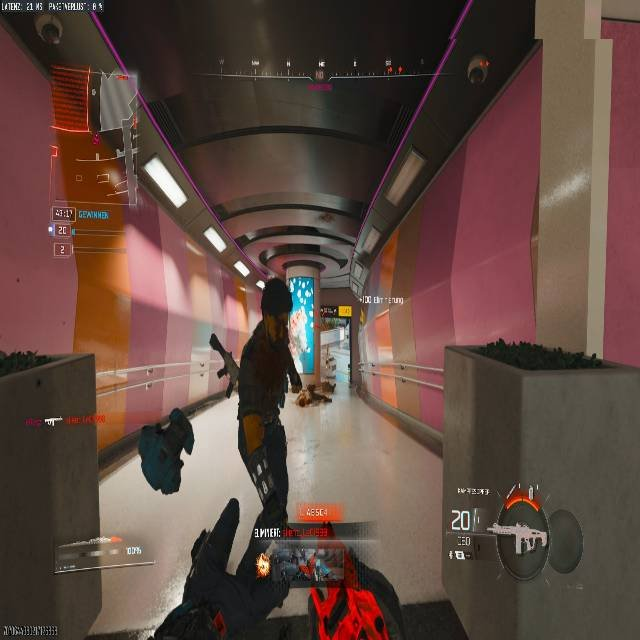head: (260, 280, 291, 322)
player: (226, 280, 332, 547)
